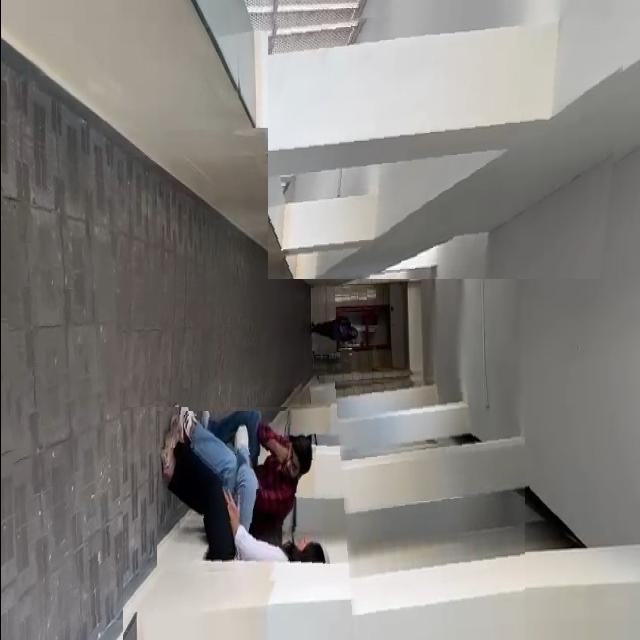floor: (0, 139, 122, 640), (114, 275, 308, 407)
moving_object: (156, 411, 333, 586)
wall: (267, 0, 629, 279), (334, 366, 524, 640)
